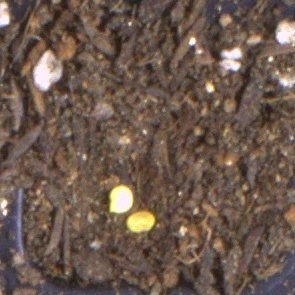chilli seed: (107, 185, 134, 214), (125, 211, 155, 232)
